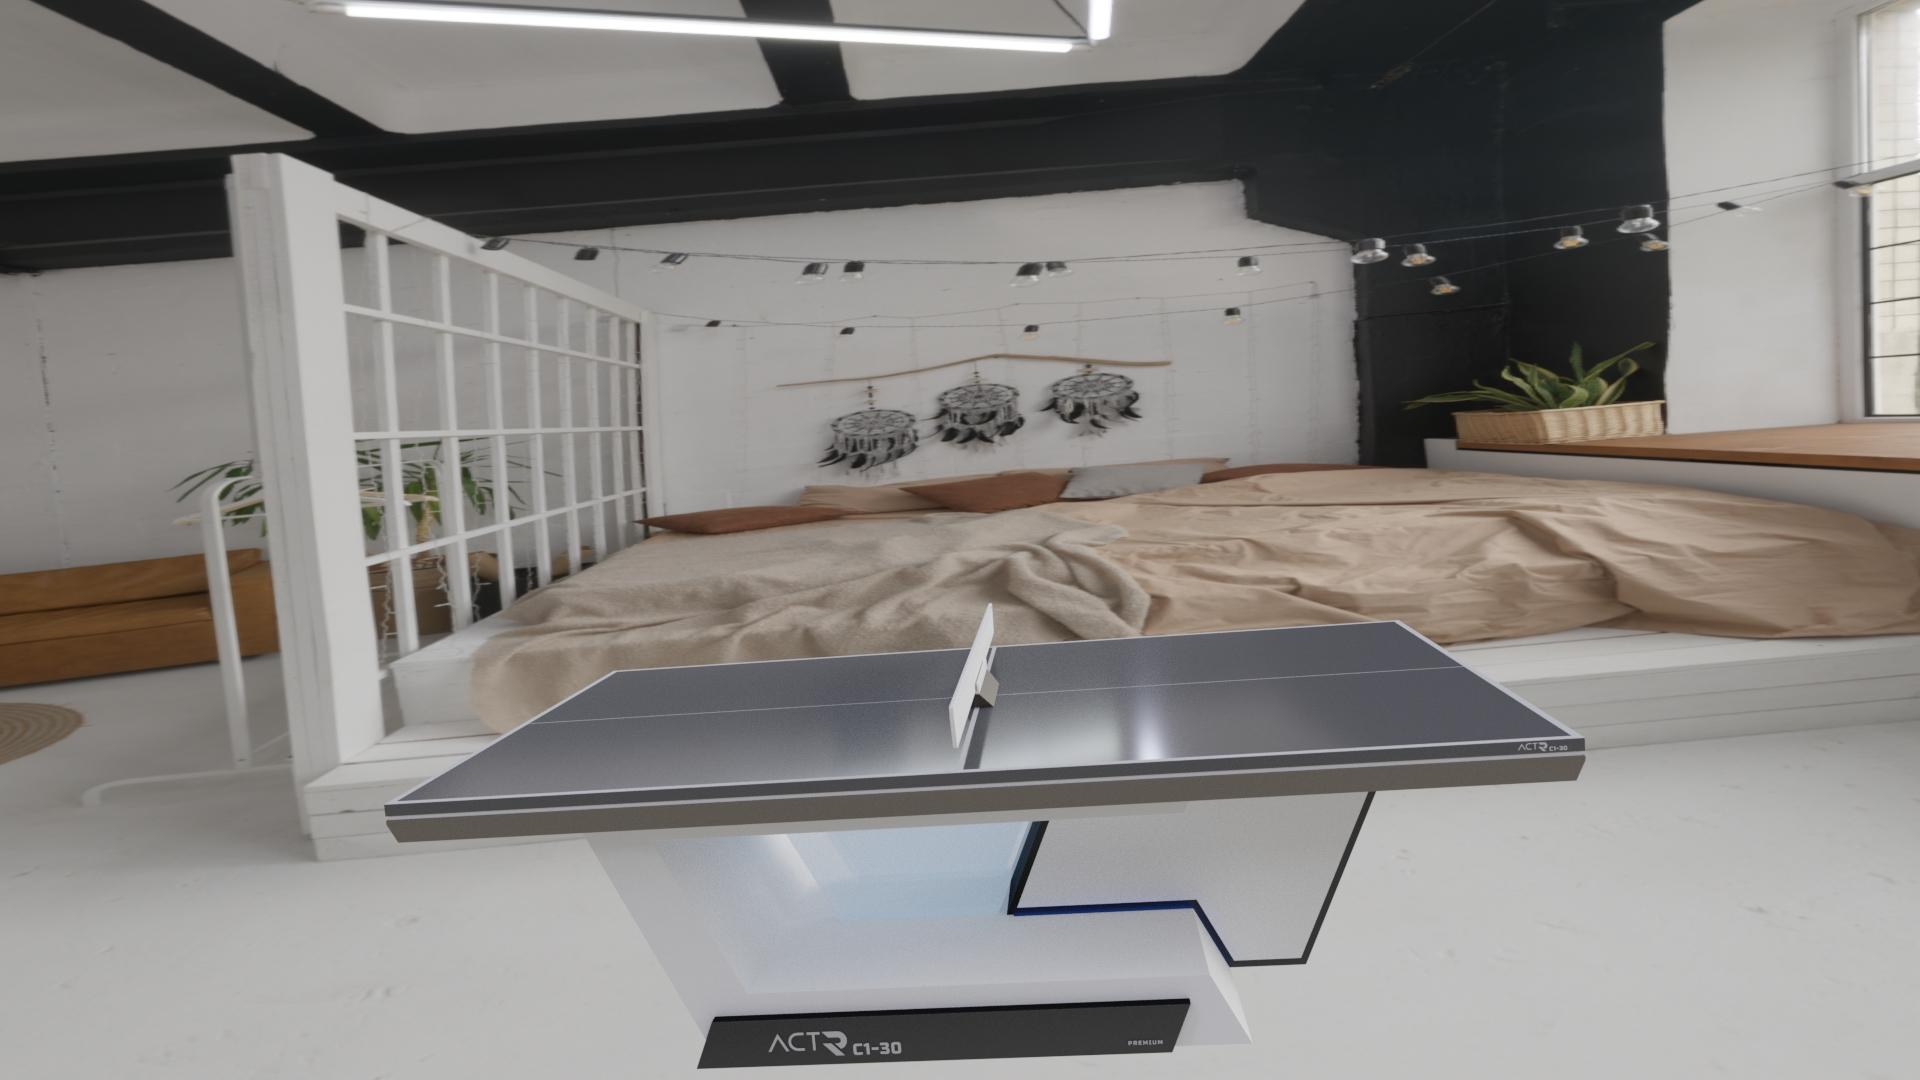table: (396, 621, 1572, 802)
